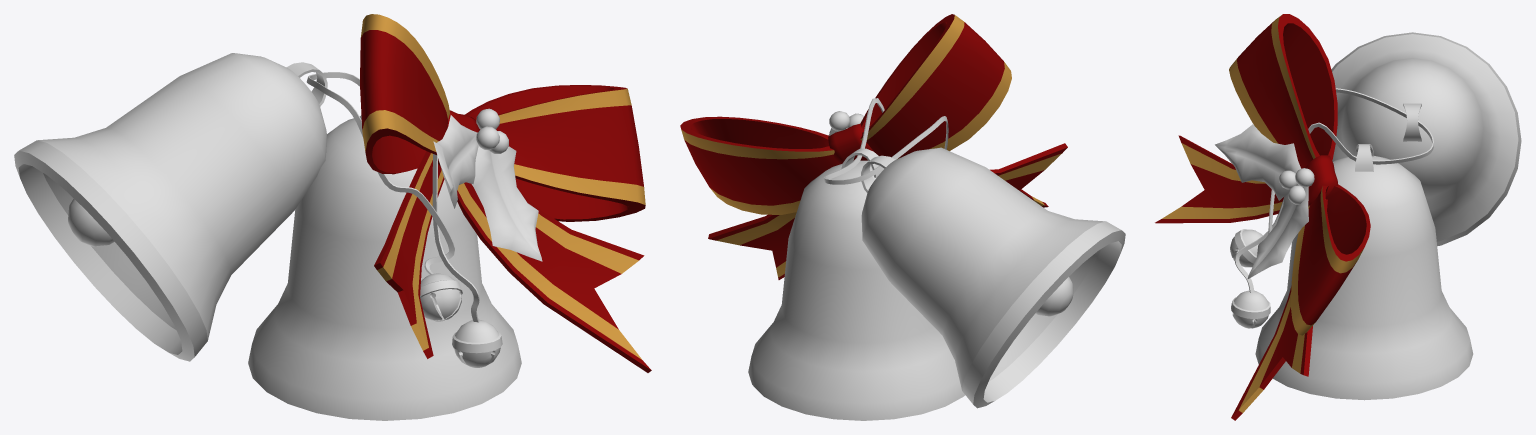
The model's file is JingleBells.dae.
3 views of the same model, side by side, from view 1: azimuth 30°, elevation 25°; view 2: azimuth 150°, elevation 25°; view 3: azimuth 270°, elevation 25° (orthographic). The views are drawn at different scales.
Visible parts, largest first — view 1: Bell003; view 2: Bell003; view 3: Bell003.
Boxes of the visible parts, bbox=[...] form: Bell003: bbox=[14, 14, 651, 420]; Bell003: bbox=[680, 14, 1125, 420]; Bell003: bbox=[1155, 14, 1521, 420].
Size of the model in its own units: 32.94 by 23.98 by 24.42.
